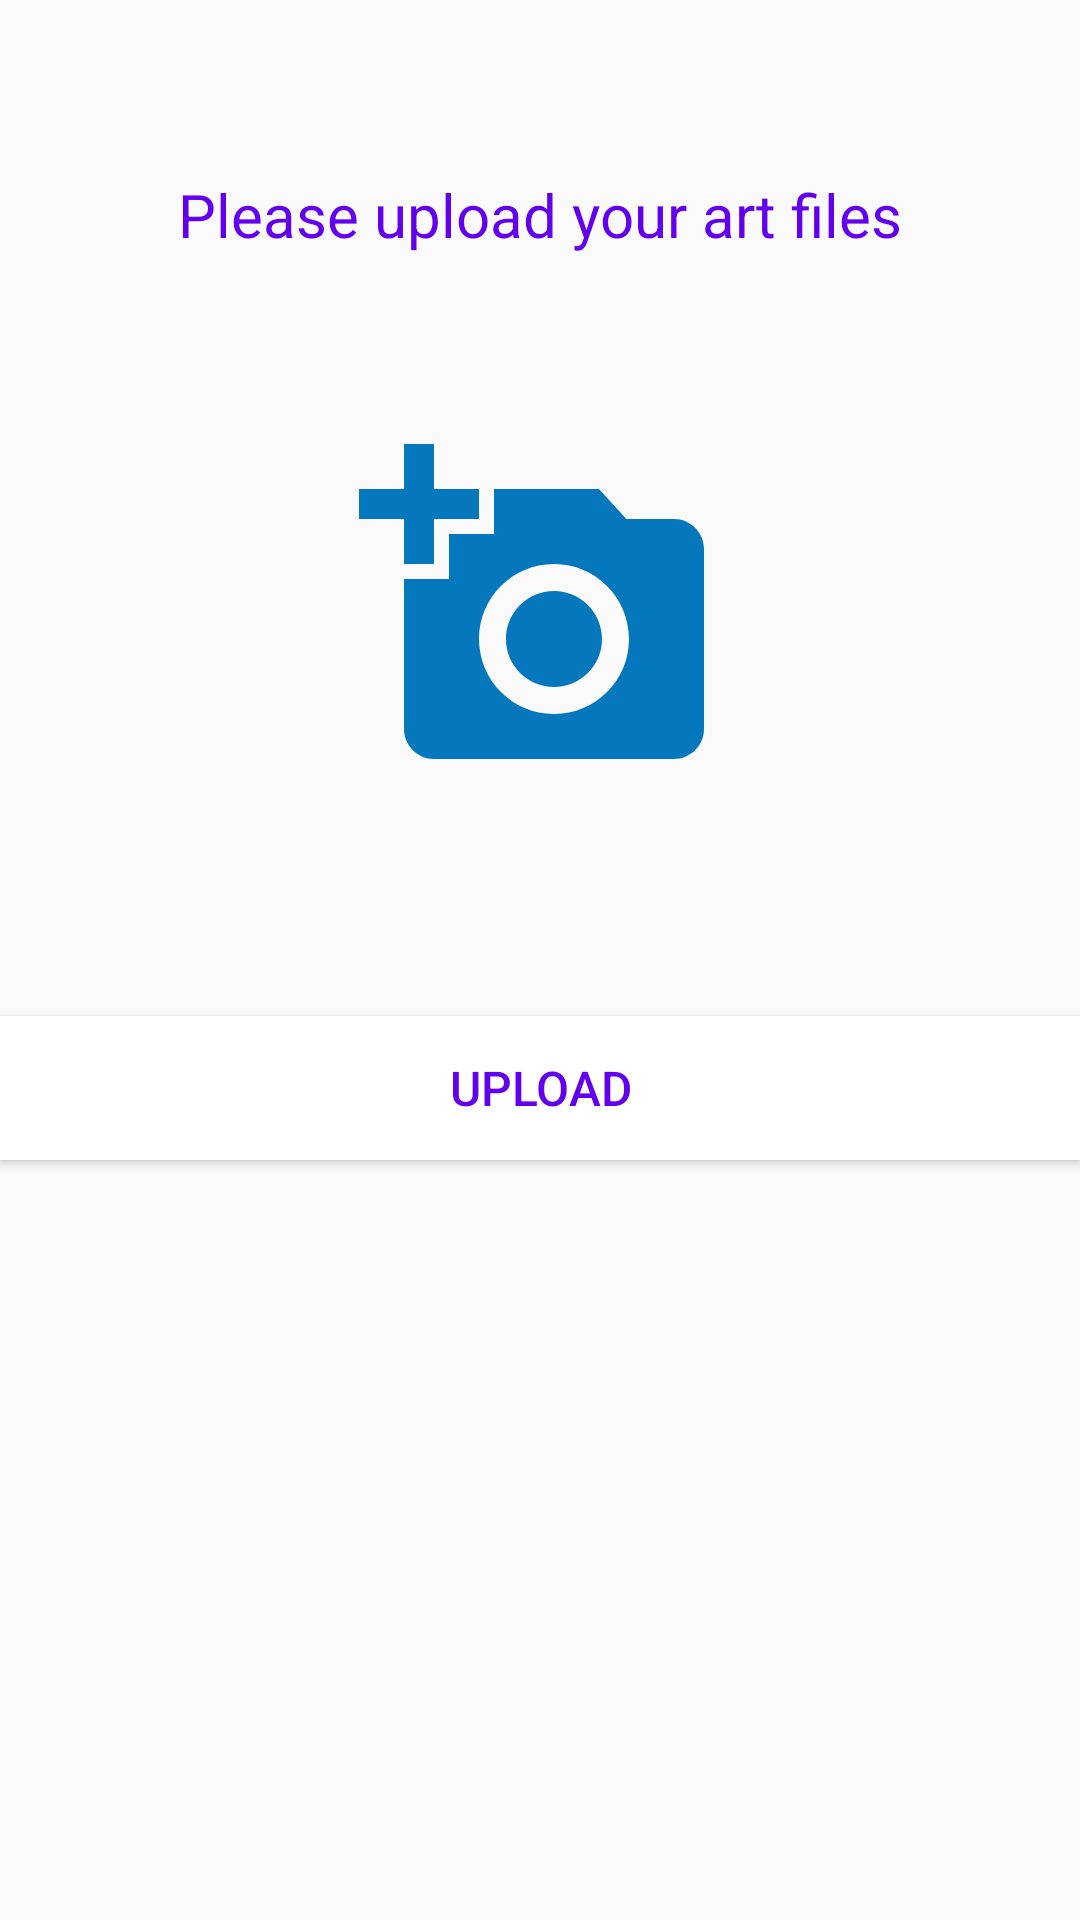

Named icons in this screenshot (1080px x 1920px) and their centers, (x,y):
add photo: (531,601)
